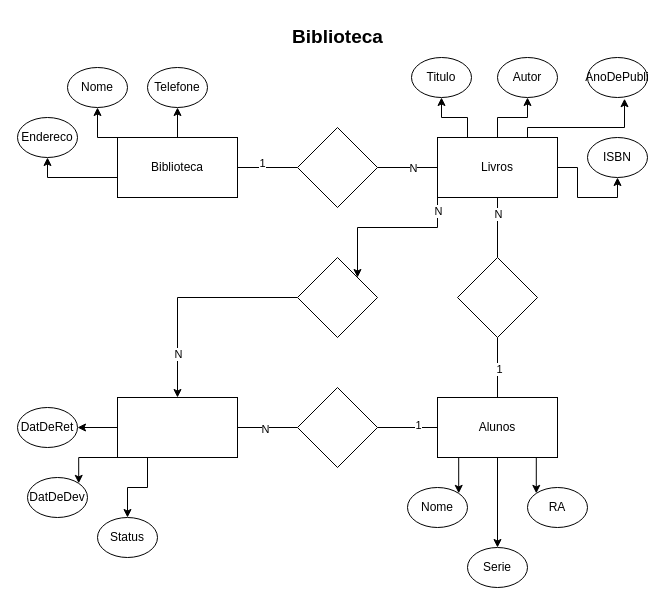
This 666x605 diagram has some shape labels left out. The centre of each missing label's shape, as x and y in pixels:
"Emprestimos" belongs at [177,427].
"Pegam" belongs at [497,297].
"Possui" belongs at [337,167].
"Realizam" belongs at [337,427].
"Sao" belongs at [337,297].
